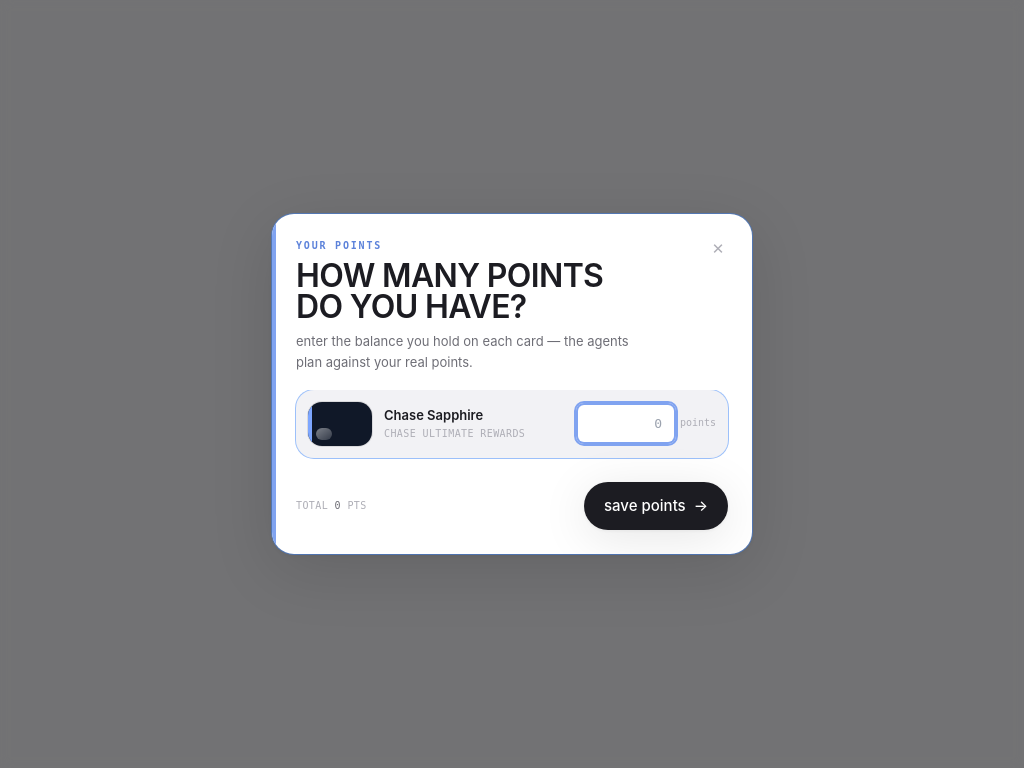
Test: WalletPointsModal › sanitizes input to digits only
Type "12a3,4" into the field named "points on chase sapphire" at (626, 424), box [578,405,674,442]
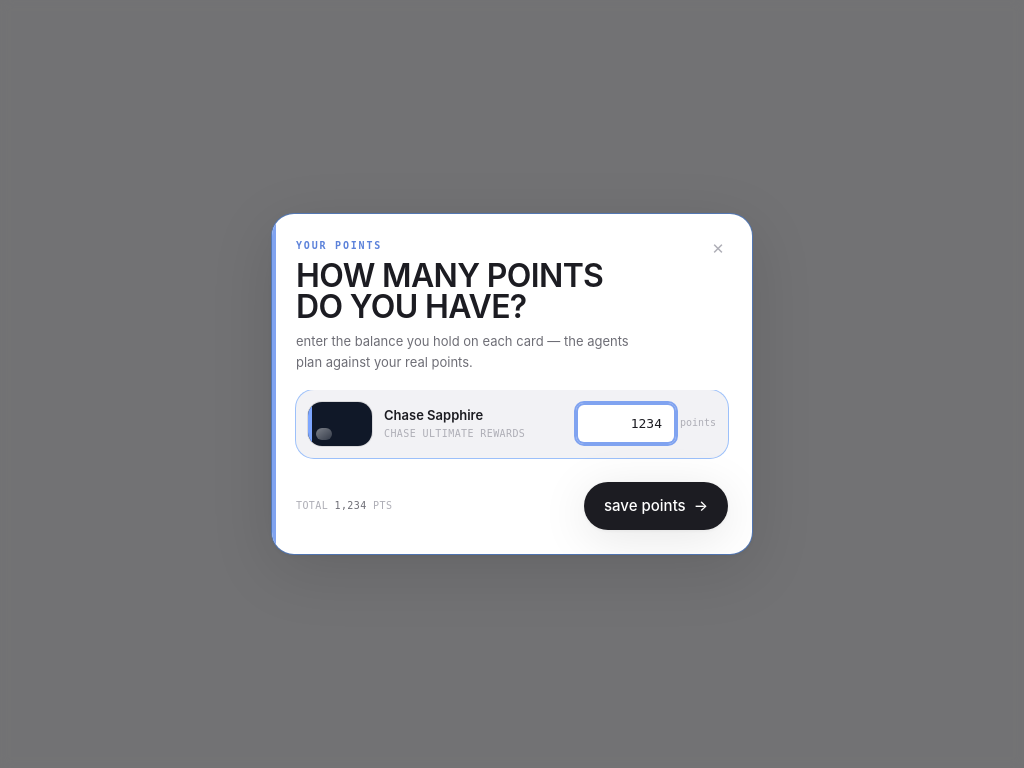
Expected: the field named "points on chase sapphire" holds "1234", [578,405,674,442]
